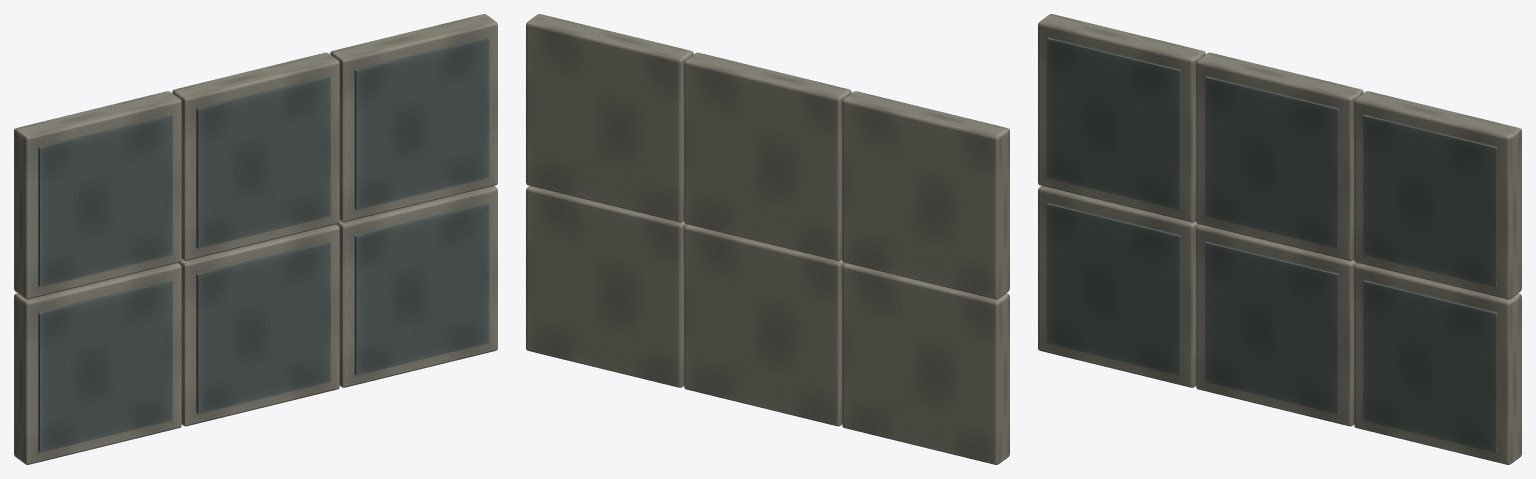
File: facade_break_panel.fbx
3 renders of one model, left to right at view 1: azimuth 30°, elevation 25°; view 2: azimuth 150°, elevation 25°; view 3: azimuth 330°, elevation 25°, orthographic.
Parts seen in each view (by area): view 1: facade_break_panel__ceramic_inset.002, facade_break_panel__ceramic_inset.005, facade_break_panel__ceramic_inset, facade_break_panel__ceramic_inset.003, facade_break_panel__ceramic_inset.001, facade_break_panel__ceramic_inset.004, facade_break_panel__ceramic_cell.003, facade_break_panel__ceramic_cell, facade_break_panel__ceramic_cell.004, facade_break_panel__ceramic_cell.005, facade_break_panel__ceramic_cell.001, facade_break_panel__ceramic_cell.002; view 2: facade_break_panel__ceramic_cell.003, facade_break_panel__ceramic_cell, facade_break_panel__ceramic_cell.004, facade_break_panel__ceramic_cell.005, facade_break_panel__ceramic_cell.001, facade_break_panel__ceramic_cell.002; view 3: facade_break_panel__ceramic_inset, facade_break_panel__ceramic_inset.003, facade_break_panel__ceramic_inset.002, facade_break_panel__ceramic_inset.005, facade_break_panel__ceramic_inset.001, facade_break_panel__ceramic_inset.004, facade_break_panel__ceramic_cell.005, facade_break_panel__ceramic_cell.002, facade_break_panel__ceramic_cell.004, facade_break_panel__ceramic_cell.003, facade_break_panel__ceramic_cell.001, facade_break_panel__ceramic_cell.
Boxes of the visible parts, x1,y1,x2,y2 form: facade_break_panel__ceramic_inset.002: [354, 203, 489, 375]; facade_break_panel__ceramic_inset.005: [354, 37, 489, 209]; facade_break_panel__ceramic_inset: [38, 280, 172, 452]; facade_break_panel__ceramic_inset.003: [38, 114, 172, 287]; facade_break_panel__ceramic_inset.001: [196, 241, 330, 414]; facade_break_panel__ceramic_inset.004: [196, 76, 330, 248]; facade_break_panel__ceramic_cell.003: [14, 91, 181, 299]; facade_break_panel__ceramic_cell: [14, 263, 181, 464]; facade_break_panel__ceramic_cell.004: [172, 52, 339, 260]; facade_break_panel__ceramic_cell.005: [330, 14, 497, 222]; facade_break_panel__ceramic_cell.001: [178, 224, 339, 426]; facade_break_panel__ceramic_cell.002: [336, 186, 497, 387]; facade_break_panel__ceramic_cell.003: [842, 91, 1009, 299]; facade_break_panel__ceramic_cell: [842, 263, 1009, 464]; facade_break_panel__ceramic_cell.004: [684, 52, 851, 260]; facade_break_panel__ceramic_cell.005: [526, 14, 693, 222]; facade_break_panel__ceramic_cell.001: [684, 224, 845, 426]; facade_break_panel__ceramic_cell.002: [526, 186, 687, 387]; facade_break_panel__ceramic_inset: [1046, 203, 1181, 375]; facade_break_panel__ceramic_inset.003: [1046, 37, 1181, 209]; facade_break_panel__ceramic_inset.002: [1363, 280, 1497, 452]; facade_break_panel__ceramic_inset.005: [1363, 114, 1497, 287]; facade_break_panel__ceramic_inset.001: [1205, 241, 1339, 414]; facade_break_panel__ceramic_inset.004: [1205, 76, 1339, 248]; facade_break_panel__ceramic_cell.005: [1354, 91, 1521, 299]; facade_break_panel__ceramic_cell.002: [1354, 263, 1521, 464]; facade_break_panel__ceramic_cell.004: [1196, 52, 1363, 260]; facade_break_panel__ceramic_cell.003: [1038, 14, 1205, 222]; facade_break_panel__ceramic_cell.001: [1196, 224, 1357, 426]; facade_break_panel__ceramic_cell: [1038, 186, 1199, 387].
Bounding box in the file's own units: 448 × 298 × 25.2.
Materials: 2 (2 with a texture image).
